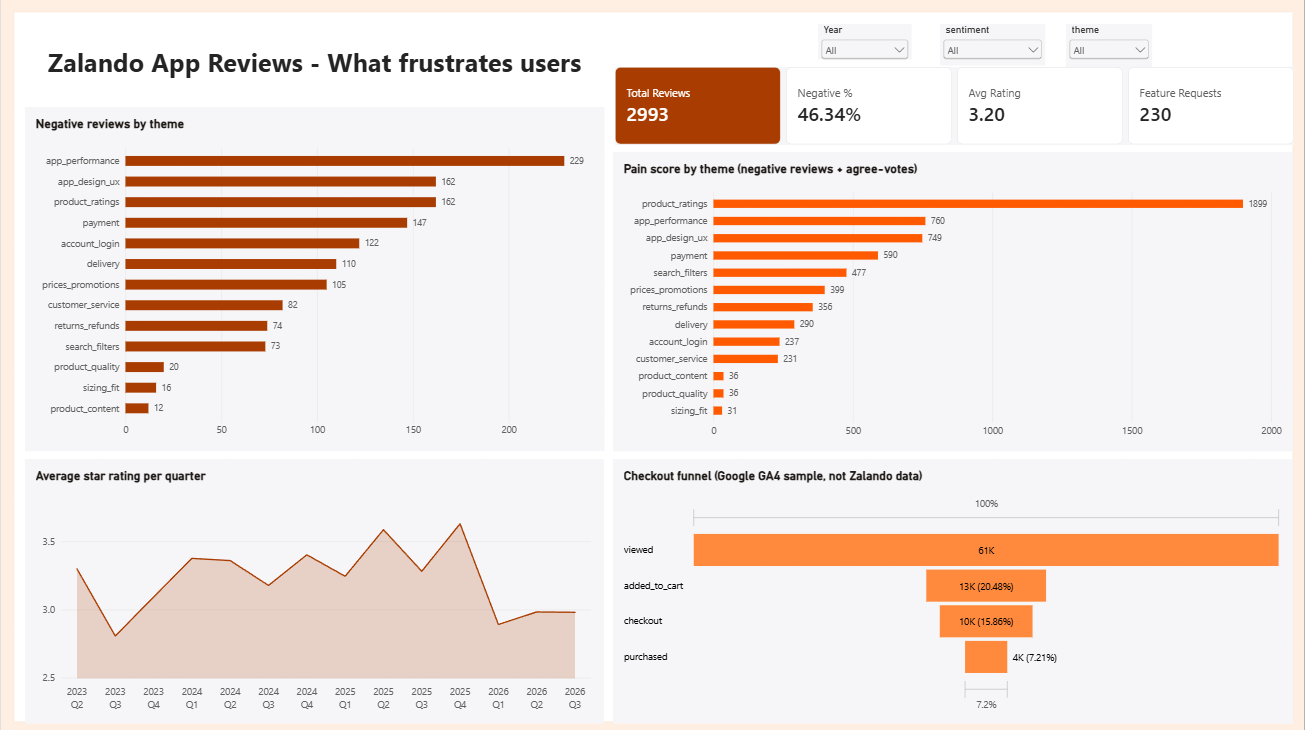

This screenshot's page, from the dashboard's own definition file:
{"tool":"powerbi","page":{"name":"Page 1","canvas":[1920,1080],"ordinal":0},"visuals":[{"type":"shape","box":[18.4,18.4,1887.4,1048.8],"z":0},{"type":"clusteredBarChart","title":"Negative reviews by theme","fields":{"Category":["reviews.theme"],"Y":["reviews.Negative Reviews"]},"box":[34.8,158.5,853.7,507],"z":1000},{"type":"clusteredBarChart","title":"Pain score by theme (negative reviews + agree-votes)","fields":{"Category":["reviews.theme"],"Y":["reviews.Pain Score"]},"box":[902.5,224.8,1001.8,440.8],"z":2000},{"type":"lineChart","title":"Average star rating per quarter","fields":{"Category":["reviews.Quarter"],"Y":["reviews.Avg Rating"]},"box":[34.8,677.7,853,390.3],"z":3000},{"type":"funnel","title":"Checkout funnel (Google GA4 sample, not Zalando data)","fields":{"Category":["funnel.Step"],"Y":["Sum(funnel.Users)"]},"box":[901.8,677.4,1001.8,389.7],"z":4000},{"type":"slicer","fields":{"Values":["reviews.Year"]},"box":[1203.9,36.6,137.6,52.3],"z":5000},{"type":"slicer","fields":{"Values":["reviews.sentiment"]},"box":[1383.4,36.6,155.1,61],"z":6000},{"type":"slicer","fields":{"Values":["reviews.theme"]},"box":[1569.8,36.6,127.2,69.7],"z":7000},{"type":"cardVisual","fields":{"Data":["reviews.Total Reviews","reviews.Negative %","reviews.Avg Rating","reviews.Feature Requests"]},"box":[904.8,100.1,1000.1,115],"z":8000},{"type":"textbox","box":[34.8,67.9,853.7,71.4],"z":9000}]}

Visuals, with their boxes in screenshot pixels (x1, y1, x2, y2), scaled from the page's 1920x1080 canvas onto the 1305x730 screenshot:
shape: <box>13,12,1295,721</box>
"Negative reviews by theme" clusteredBarChart: <box>24,107,604,450</box>
"Pain score by theme (negative reviews + agree-votes)" clusteredBarChart: <box>613,152,1294,450</box>
"Average star rating per quarter" lineChart: <box>24,458,603,722</box>
"Checkout funnel (Google GA4 sample, not Zalando data)" funnel: <box>613,458,1294,721</box>
slicer - reviews.Year: <box>818,25,912,60</box>
slicer - reviews.sentiment: <box>940,25,1046,66</box>
slicer - reviews.theme: <box>1067,25,1153,72</box>
cardVisual - reviews.Total Reviews x reviews.Negative %: <box>615,68,1295,145</box>
textbox: <box>24,46,604,94</box>
